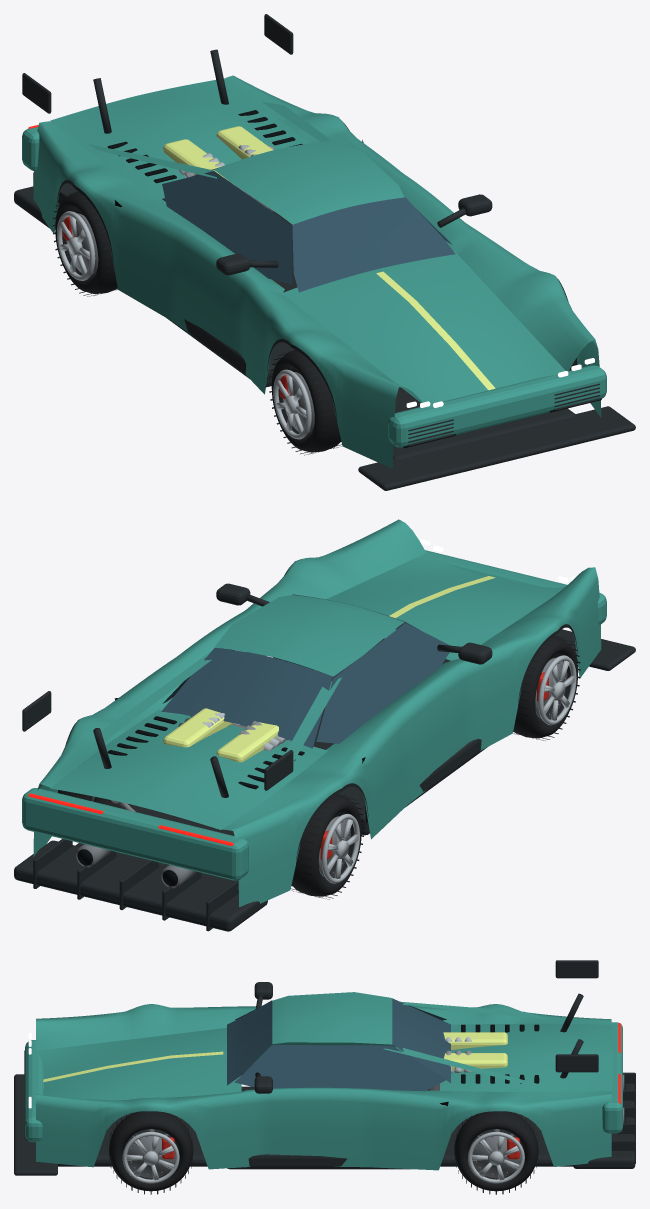
File: concept-meridian.glb
The picture shows the model from 3 angles, top to bottom: view 1: azimuth 30°, elevation 25°; view 2: azimuth 150°, elevation 25°; view 3: azimuth 270°, elevation 25°; orthographic projection. The views are drawn at different scales.
Visible parts, largest first — view 1: SidePanelsR | sculpted arch fenders, Hood | central sculpted bonnet, SidePanelsL | sculpted arch fenders, RearDeck | engine shoulders, GlassWindshield, Roof | floating canopy, SplitterFront, BumperFront | upper bridge, GlassSideR, TireAndTreadFrontR, Undertray carbon tub, TireAndTreadRearR (+15 smaller); view 2: SidePanelsR | sculpted arch fenders, RearDeck | engine shoulders, SidePanelsL | sculpted arch fenders, Hood | central sculpted bonnet, BumperRear | shoulder bridge, GlassRear | engine viewing canopy, Roof | floating canopy, DiffuserRear | main expansion ramp, GlassSideR, TireAndTreadRearR, Engine | Twin turbo V8 + front electric axle / hybrid AWD, DiffuserRearFins (+17 smaller); view 3: SidePanelsL | sculpted arch fenders, Hood | central sculpted bonnet, RearDeck | engine shoulders, SidePanelsR | sculpted arch fenders, GlassSideL, Roof | floating canopy, TireAndTreadFrontL, TireAndTreadRearL, GlassRear | engine viewing canopy, GlassWindshield, Undertray carbon tub, WingMountsAndEndplates (+19 smaller).
Boxes of the visible parts, <box> form: SidePanelsR | sculpted arch fenders: <box>33,121,422,468</box>; Hood | central sculpted bonnet: <box>282,251,565,407</box>; SidePanelsL | sculpted arch fenders: <box>224,75,601,417</box>; RearDeck | engine shoulders: <box>50,80,309,199</box>; GlassWindshield: <box>292,197,455,292</box>; Roof | floating canopy: <box>214,140,403,224</box>; SplitterFront: <box>358,406,635,490</box>; BumperFront | upper bridge: <box>388,365,606,447</box>; GlassSideR: <box>162,171,292,284</box>; TireAndTreadFrontR: <box>269,349,341,455</box>; Undertray carbon tub: <box>162,198,575,459</box>; TireAndTreadRearR: <box>52,191,117,296</box>; SidePanelsR | sculpted arch fenders: <box>222,567,601,907</box>; RearDeck | engine shoulders: <box>50,709,327,829</box>; SidePanelsL | sculpted arch fenders: <box>33,519,426,856</box>; Hood | central sculpted bonnet: <box>326,552,565,660</box>; BumperRear | shoulder bridge: <box>22,788,248,880</box>; GlassRear | engine viewing canopy: <box>161,648,332,748</box>; Roof | floating canopy: <box>214,595,404,676</box>; DiffuserRear | main expansion ramp: <box>14,840,267,931</box>; GlassSideR: <box>316,623,449,743</box>; TireAndTreadRearR: <box>290,794,364,899</box>; Engine | Twin turbo V8 + front electric axle / hybrid AWD: <box>163,708,287,762</box>; DiffuserRearFins: <box>33,839,238,931</box>; SidePanelsL | sculpted arch fenders: <box>36,1087,611,1170</box>; Hood | central sculpted bonnet: <box>34,1027,241,1105</box>; RearDeck | engine shoulders: <box>440,1023,612,1091</box>; SidePanelsR | sculpted arch fenders: <box>36,1004,611,1063</box>; GlassSideL: <box>234,1045,446,1091</box>; Roof | floating canopy: <box>272,992,392,1044</box>; TireAndTreadFrontL: <box>109,1111,193,1194</box>; TireAndTreadRearL: <box>454,1111,538,1194</box>; GlassRear | engine viewing canopy: <box>392,998,450,1082</box>; GlassWindshield: <box>227,1000,272,1085</box>; Undertray carbon tub: <box>58,1086,573,1166</box>; WingMountsAndEndplates: <box>555,960,598,1078</box>.
Size of the model in its own units: 2.05 by 1.24 by 5.08.
